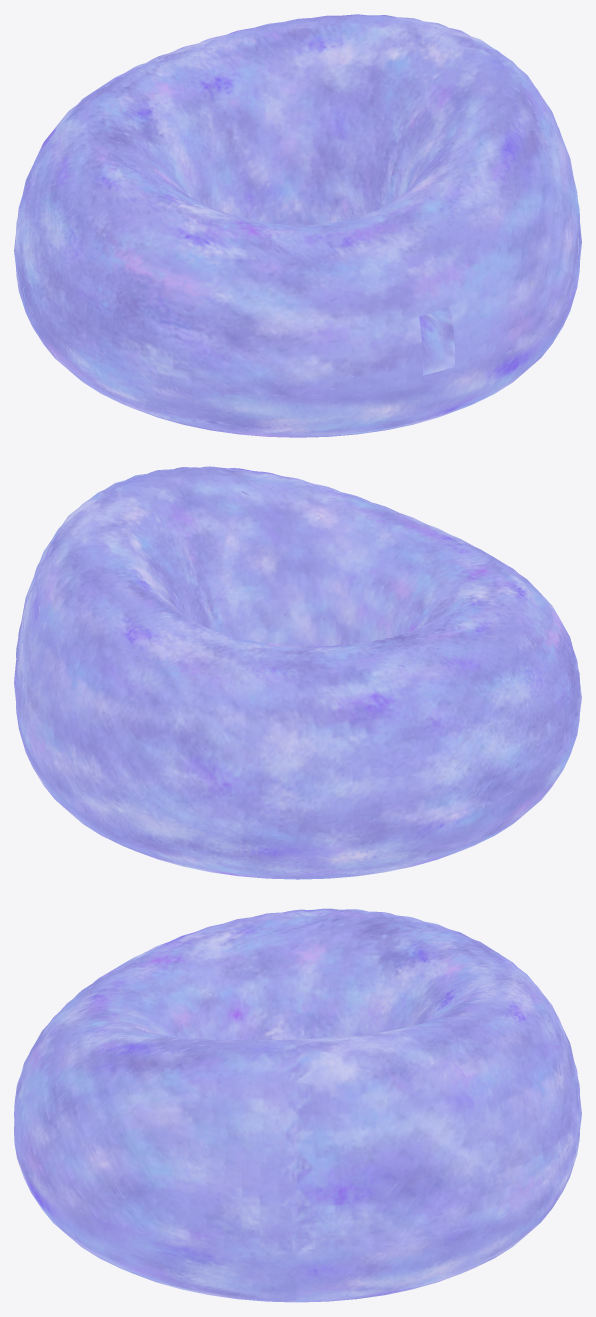
Rendered from Archi_big.fbx.
3 renders of one model, top to bottom at view 1: azimuth 30°, elevation 25°; view 2: azimuth 150°, elevation 25°; view 3: azimuth 270°, elevation 25°, orthographic.
Visible parts, largest first — view 1: Archi_big; view 2: Archi_big; view 3: Archi_big.
Part boxes in pixels (x1=…): Archi_big: x1=14, y1=14, x2=581, y2=437; Archi_big: x1=14, y1=466, x2=581, y2=879; Archi_big: x1=14, y1=908, x2=581, y2=1302.
Size of the model in its own units: 148 by 148 by 73.68.
Materials: 1 (1 with a texture image).
